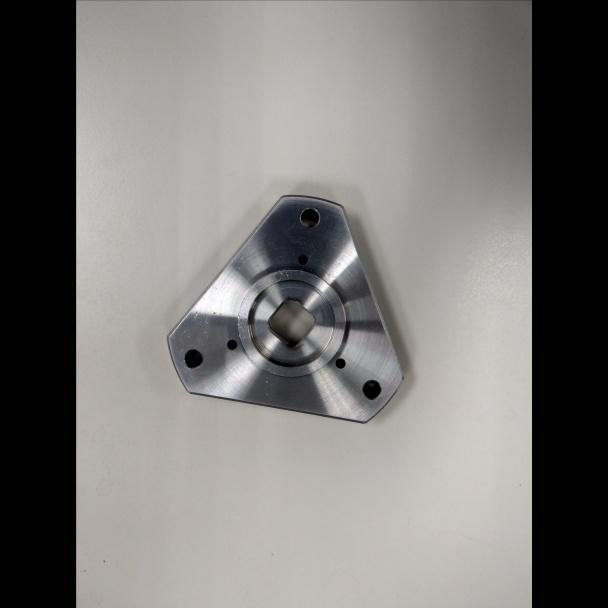hole: (359, 376, 383, 402), (180, 346, 205, 370), (297, 205, 321, 230), (294, 251, 310, 266), (224, 337, 238, 351), (333, 355, 346, 370)
